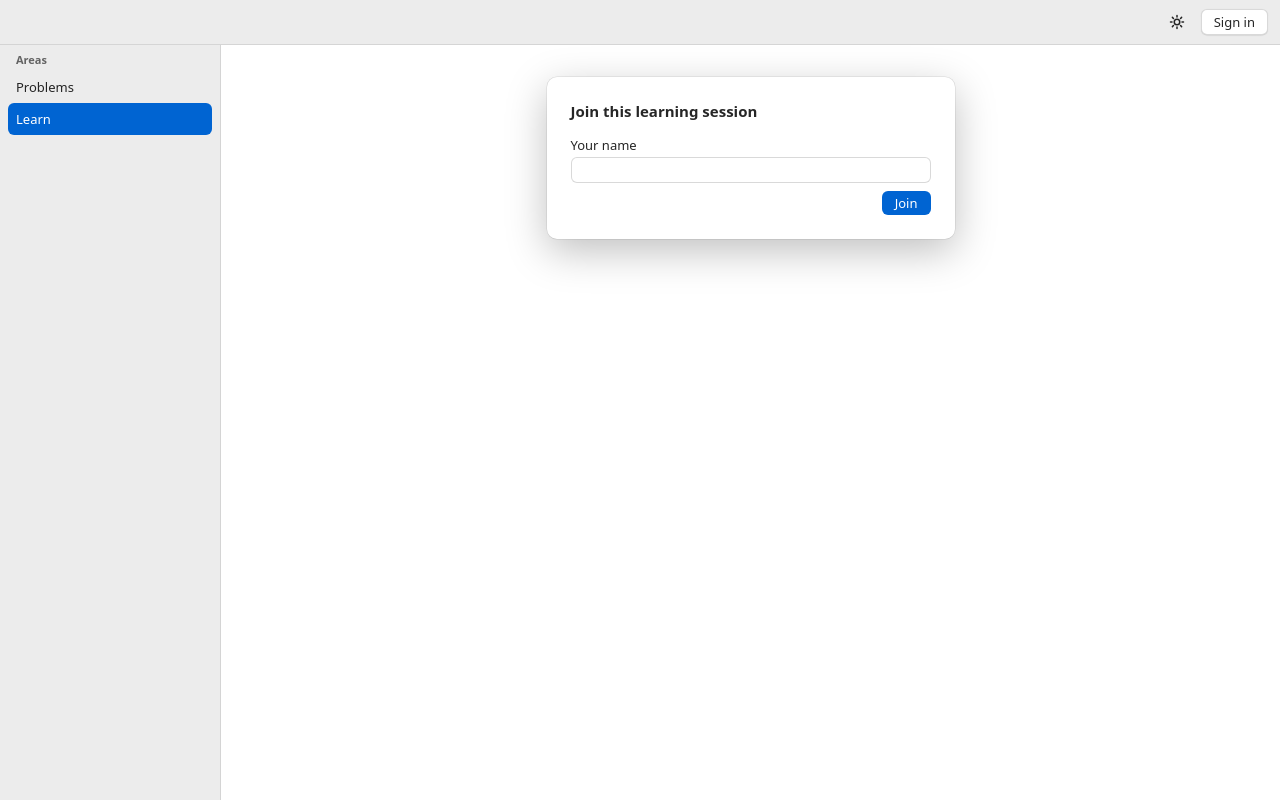
it: LearningSessionWindow: joining (FR-7, FR-8) › AC-8: a full session (4403) says it is full
The image size is (1280, 800).
Type "Ada" into the field labelled "Your name" at (750, 170), box [570,157,930,183]
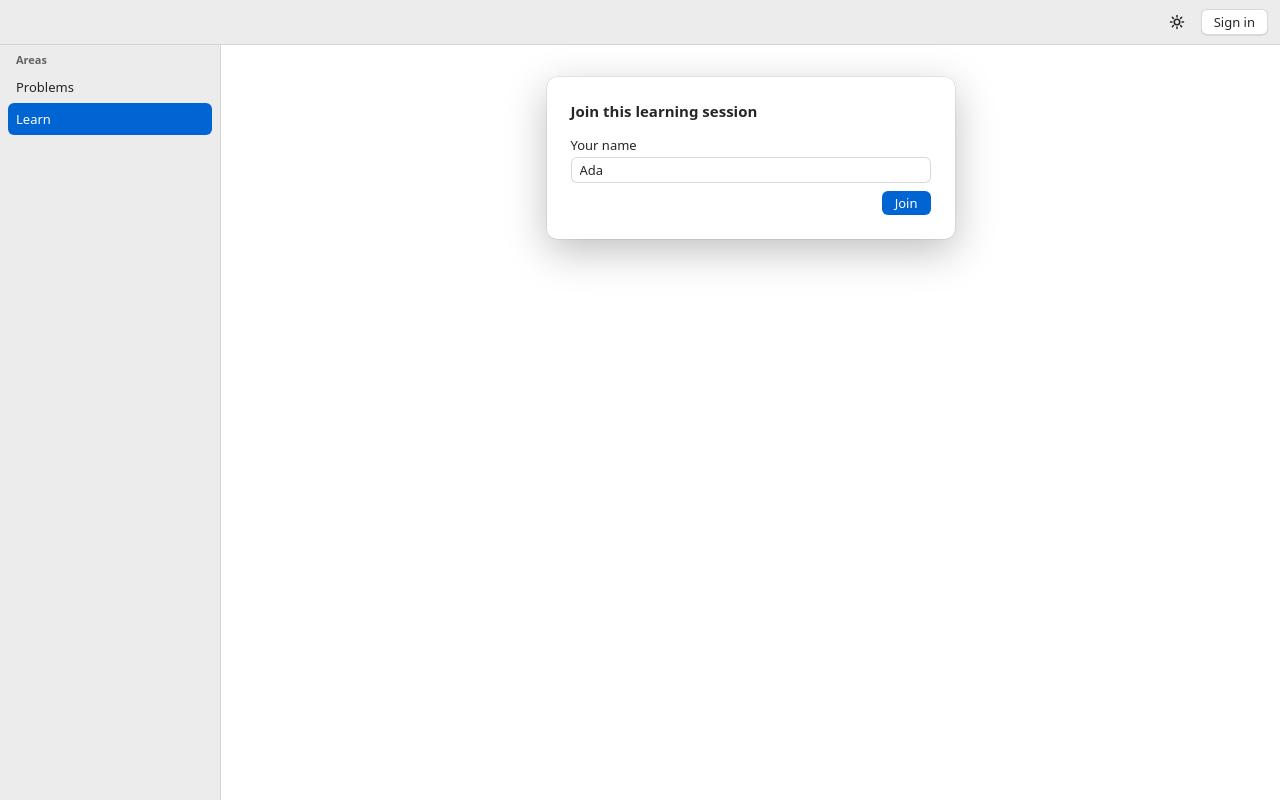
Click the button "Join" at (906, 203), box [882,191,930,215]
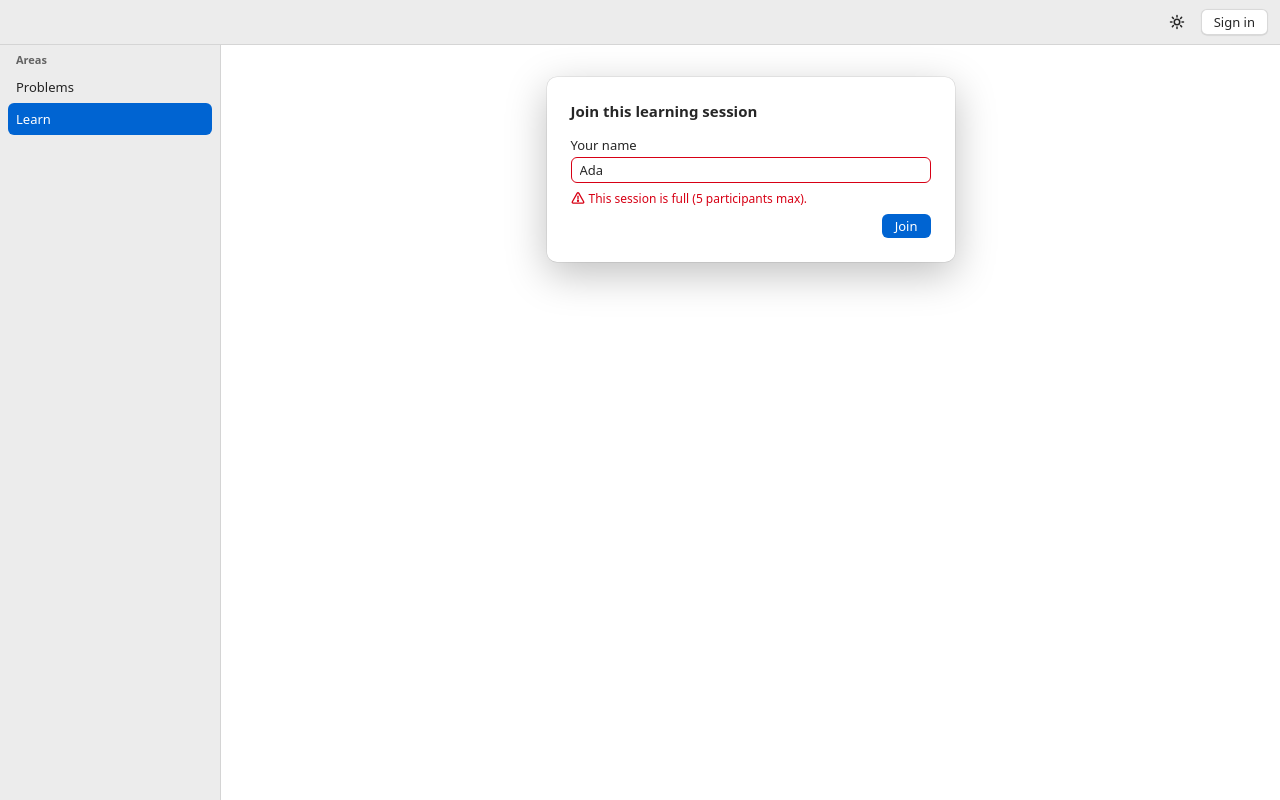
Expected: the text "This session is full (5 participants max)." is shown, [588,191,807,206]
